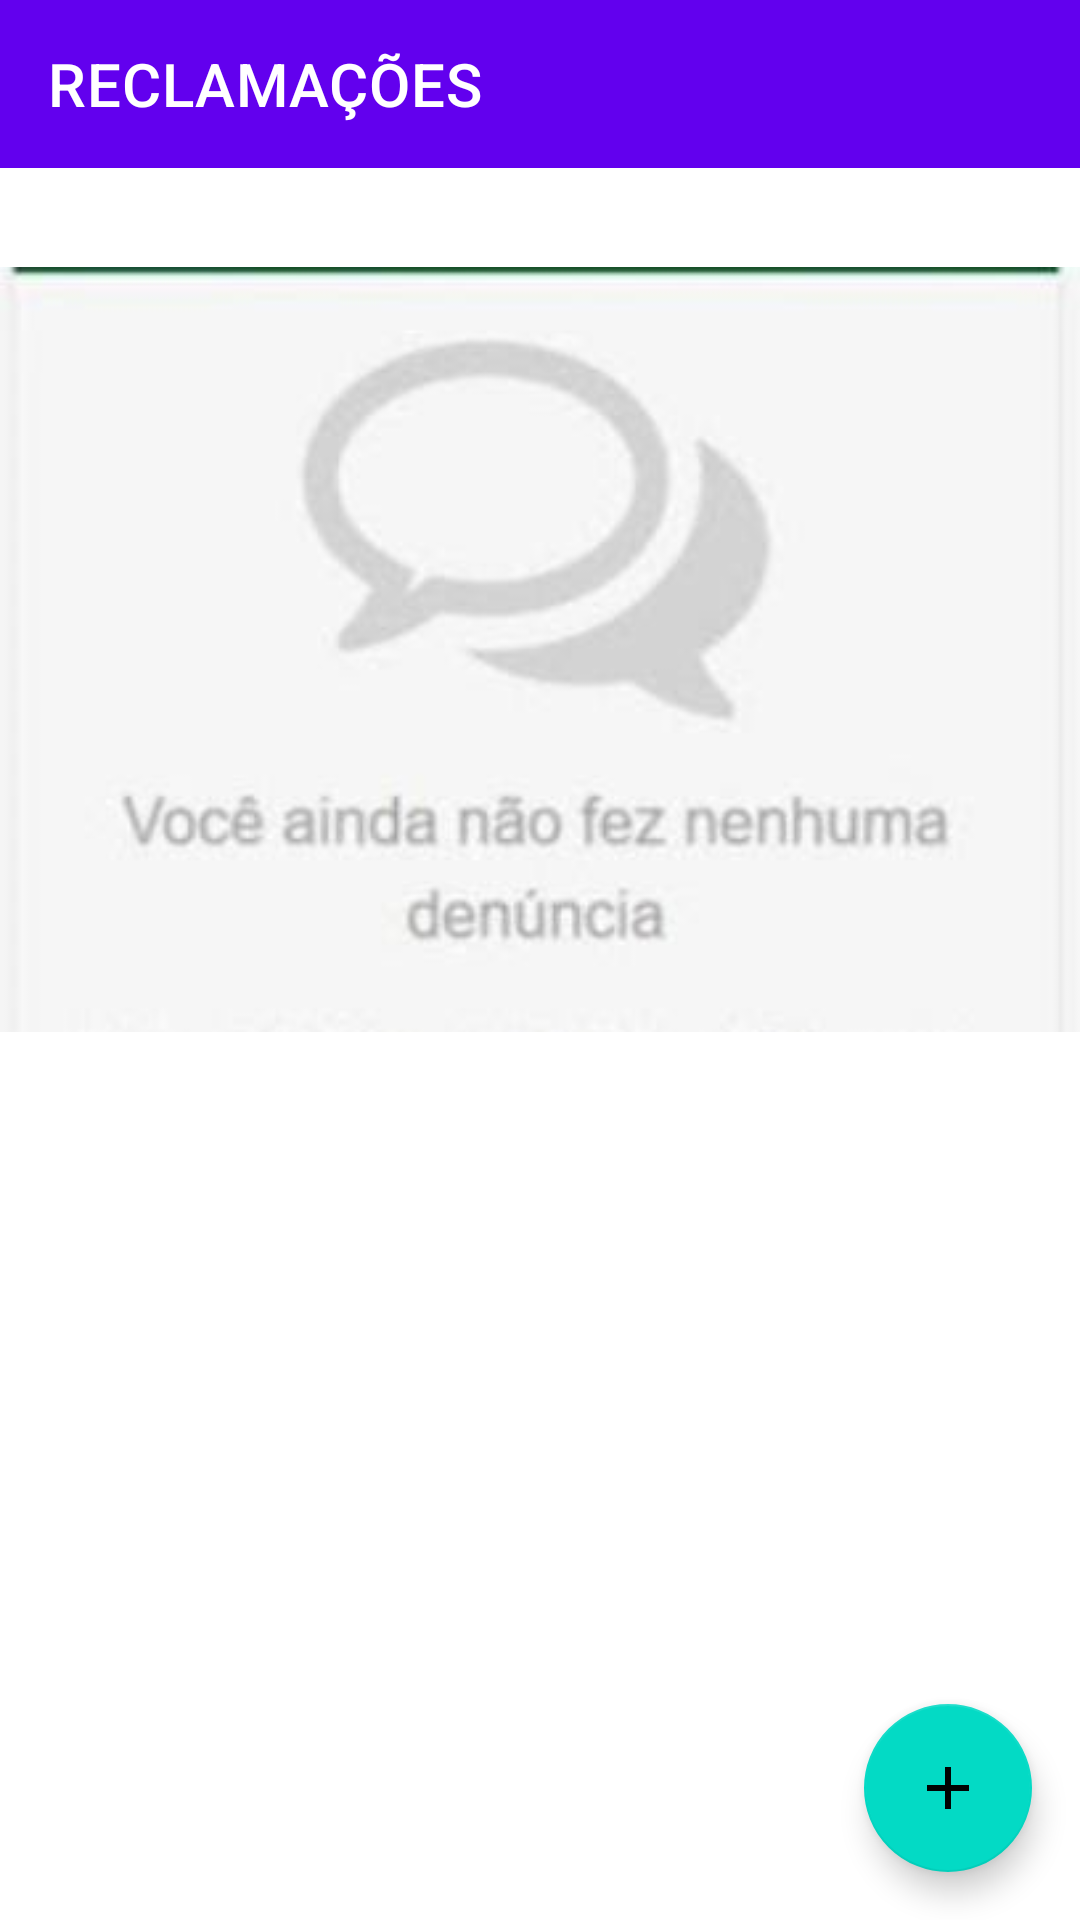

Screen size 1080×1920. Icon name, then its center in pixels as point (x, y):
Fazer uma reclamação: point (948, 1788)
